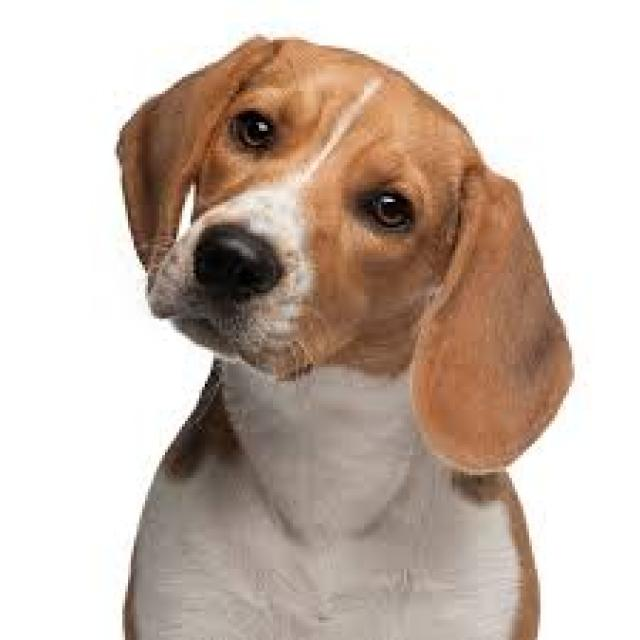Dog: (110, 23, 586, 640)
